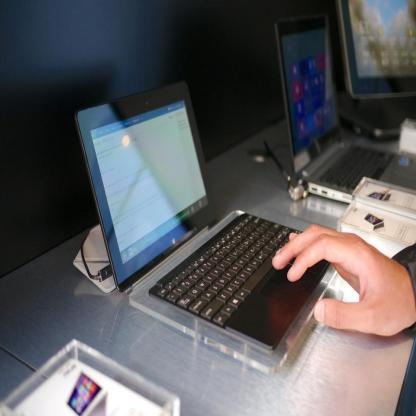board: (75, 84, 331, 350), (275, 12, 416, 208), (336, 0, 416, 134)
